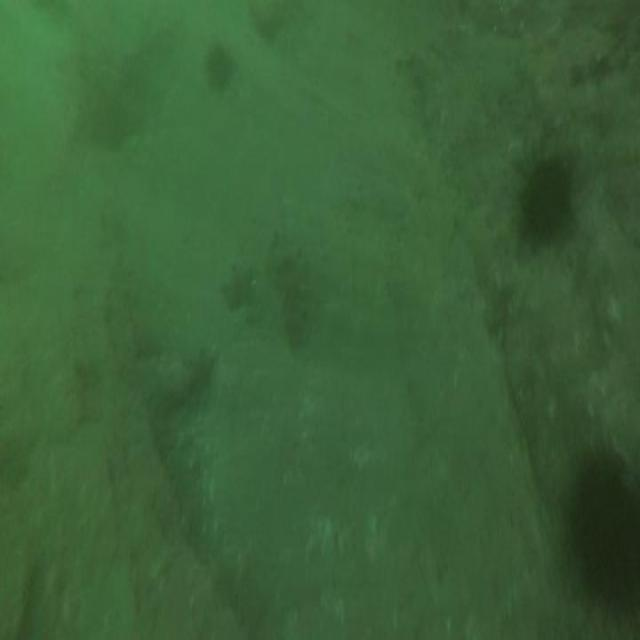echinus: (573, 455, 639, 621), (524, 164, 570, 243), (207, 44, 234, 90)
holothurian: (455, 205, 506, 334), (268, 231, 316, 351)
starfish: (220, 261, 253, 308)
